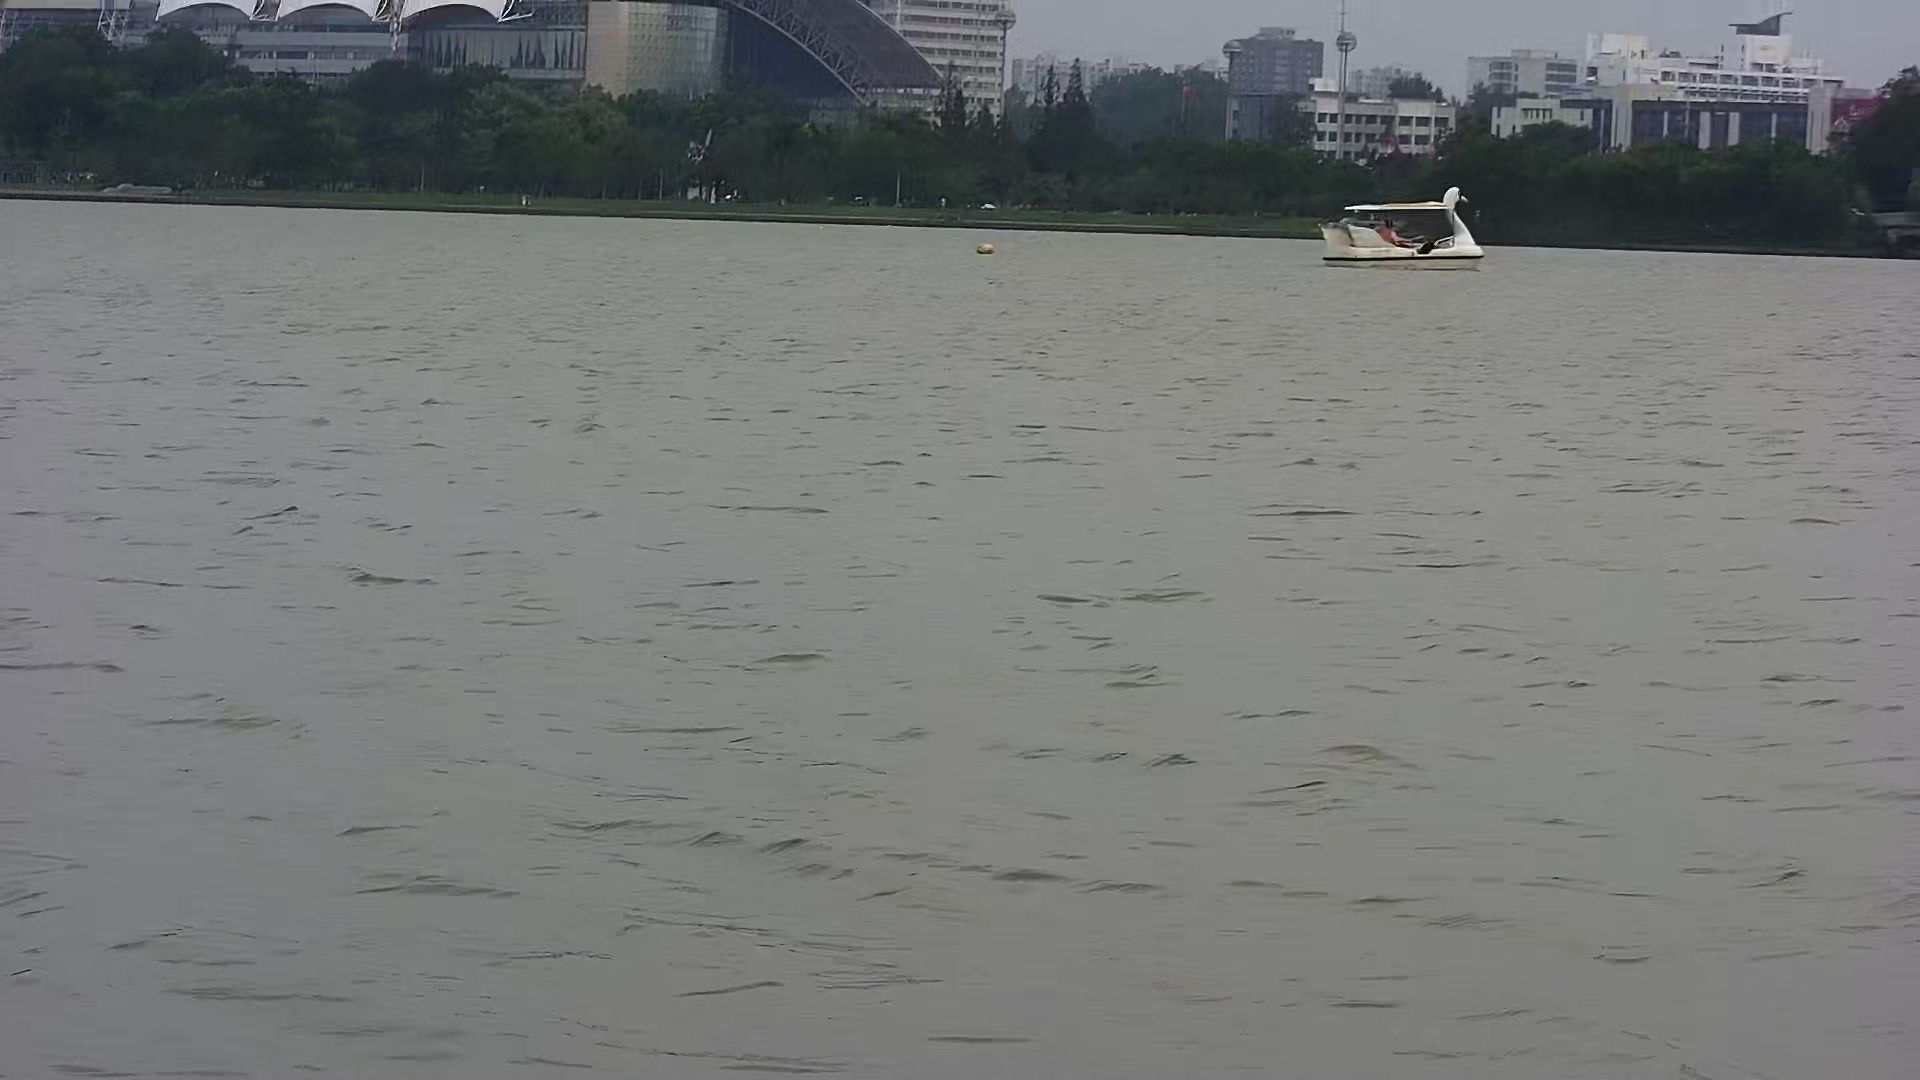boat: (1304, 186, 1487, 274)
